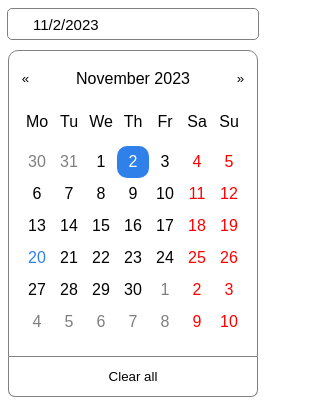
Scenario: CalendarWithInptut › Input valid date
Replace the text in the field with placeholder "dd.mm.yyyy" with "1.12.2023" at x=133, y=24, box x1=7 y1=8 x2=259 y2=40
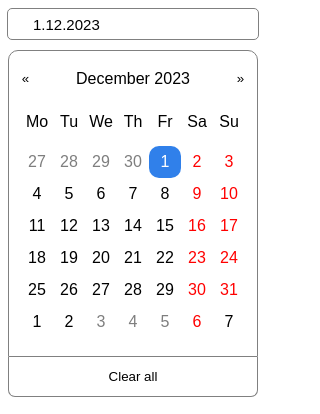
Expected: the text "December 2023" is shown, x1=76 y1=70 x2=190 y2=86
